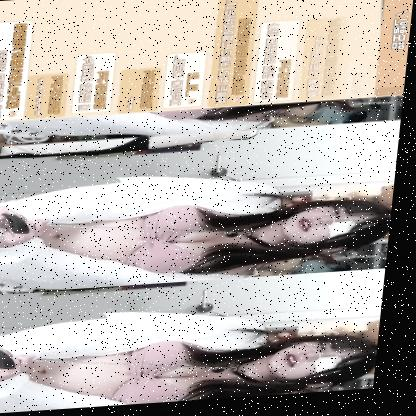streamer: (0, 164, 401, 294), (0, 299, 390, 416), (0, 102, 355, 147)
